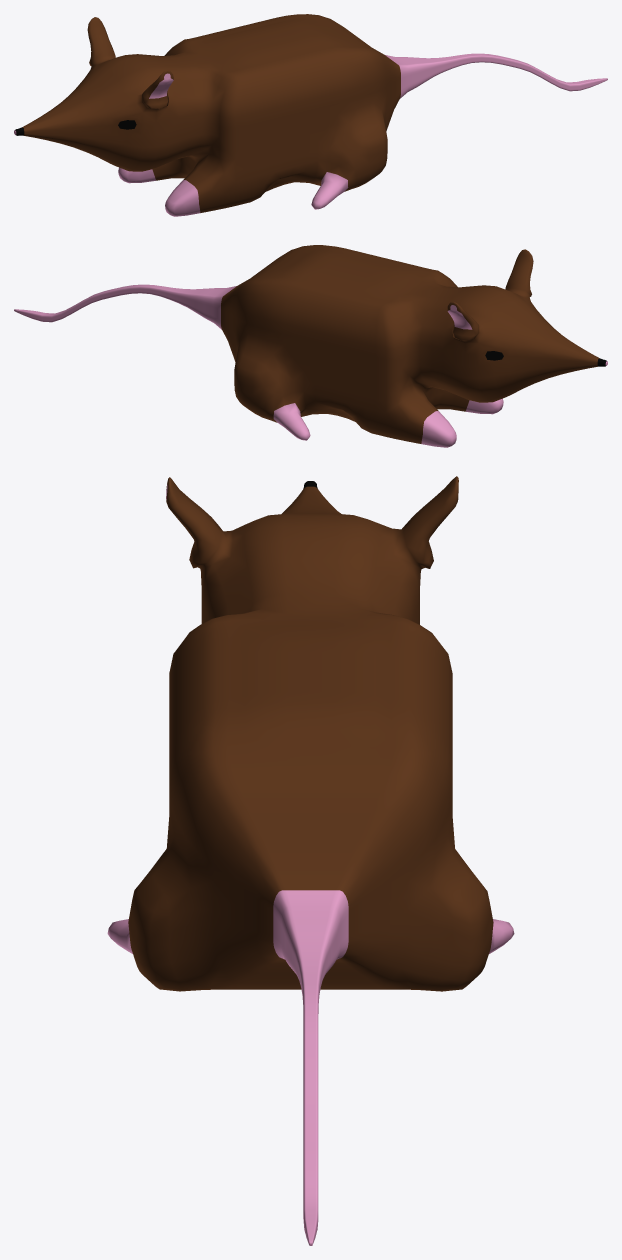
The model's file is Mouse.FBX.
3 views of the same model, one above another, from view 1: azimuth 30°, elevation 25°; view 2: azimuth 150°, elevation 25°; view 3: azimuth 270°, elevation 25° (orthographic). The views are drawn at different scales.
Parts seen in each view (by area): view 1: Mouse; view 2: Mouse; view 3: Mouse.
Part boxes in pixels (<box>): Mouse: <box>14,14,607,216</box>; Mouse: <box>14,245,607,447</box>; Mouse: <box>107,476,514,1245</box>.
Bounding box in the file's own units: 2.41 × 0.6405 × 0.7179.
